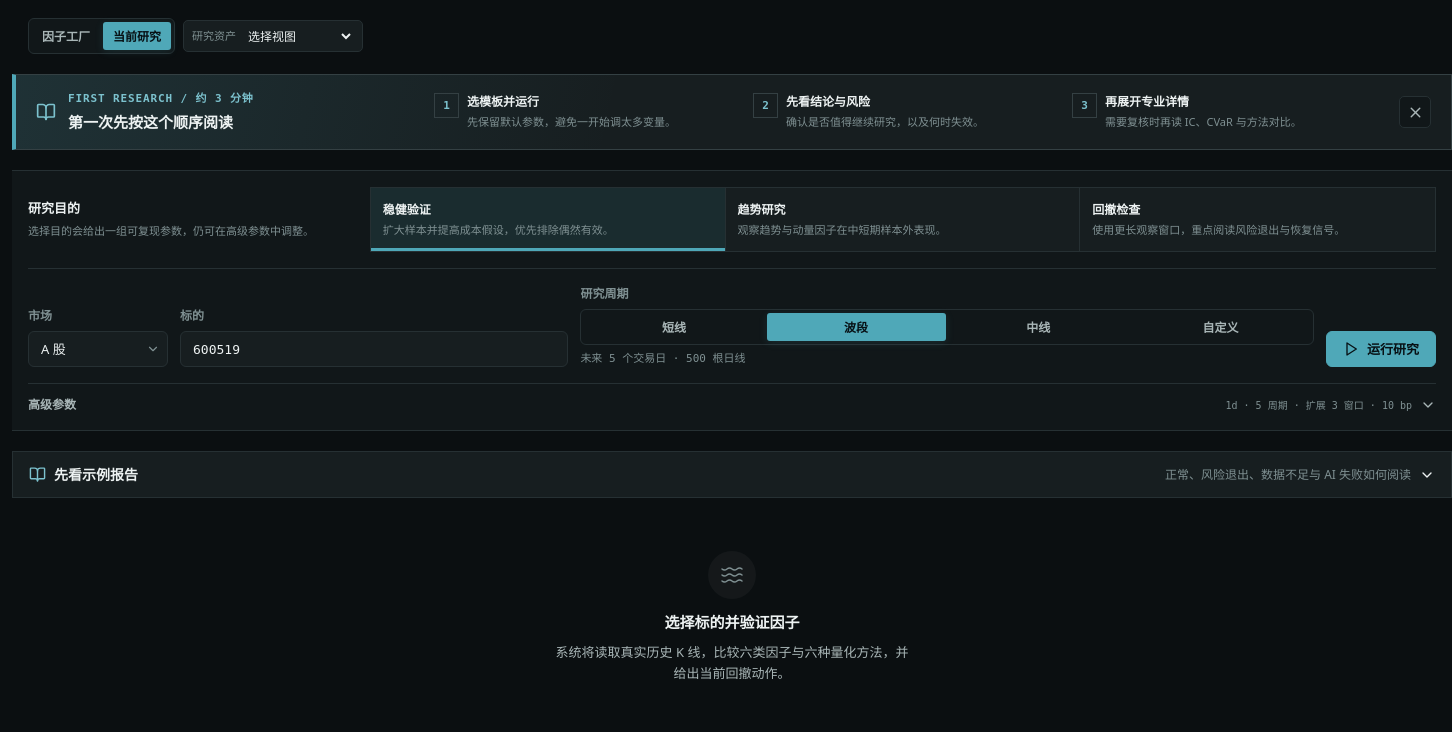
FactorResearchPage › runs a constrained AI review after statistical research
The image size is (1452, 732).
Click the button "运行研究" at coordinates (1381, 349), box [1326,331,1436,367]
(page scrolled)
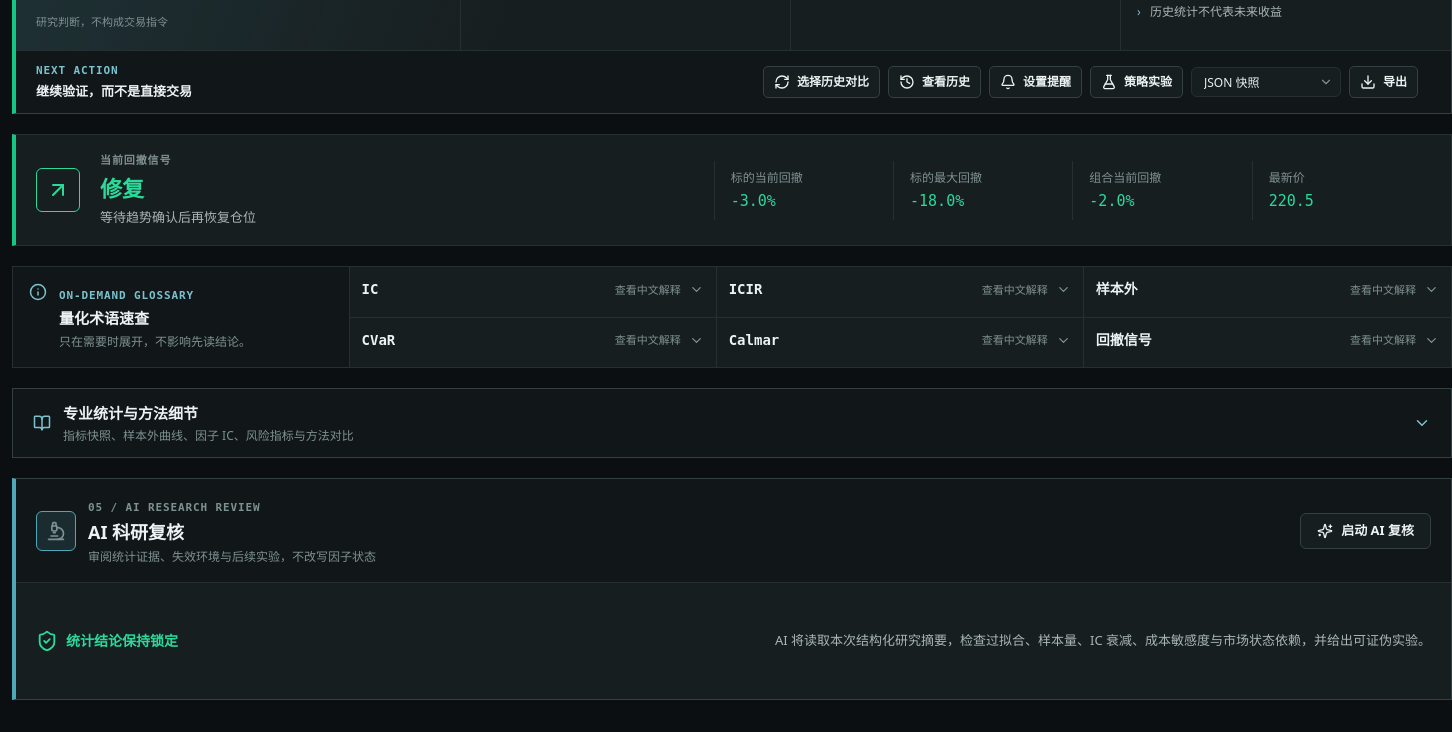
Expected: the heading "AI 科研复核" is shown, [88,520,184,544]
Click the button "启动 AI 复核" at coordinates (1366, 531), box [1300,513,1431,549]
(page scrolled)
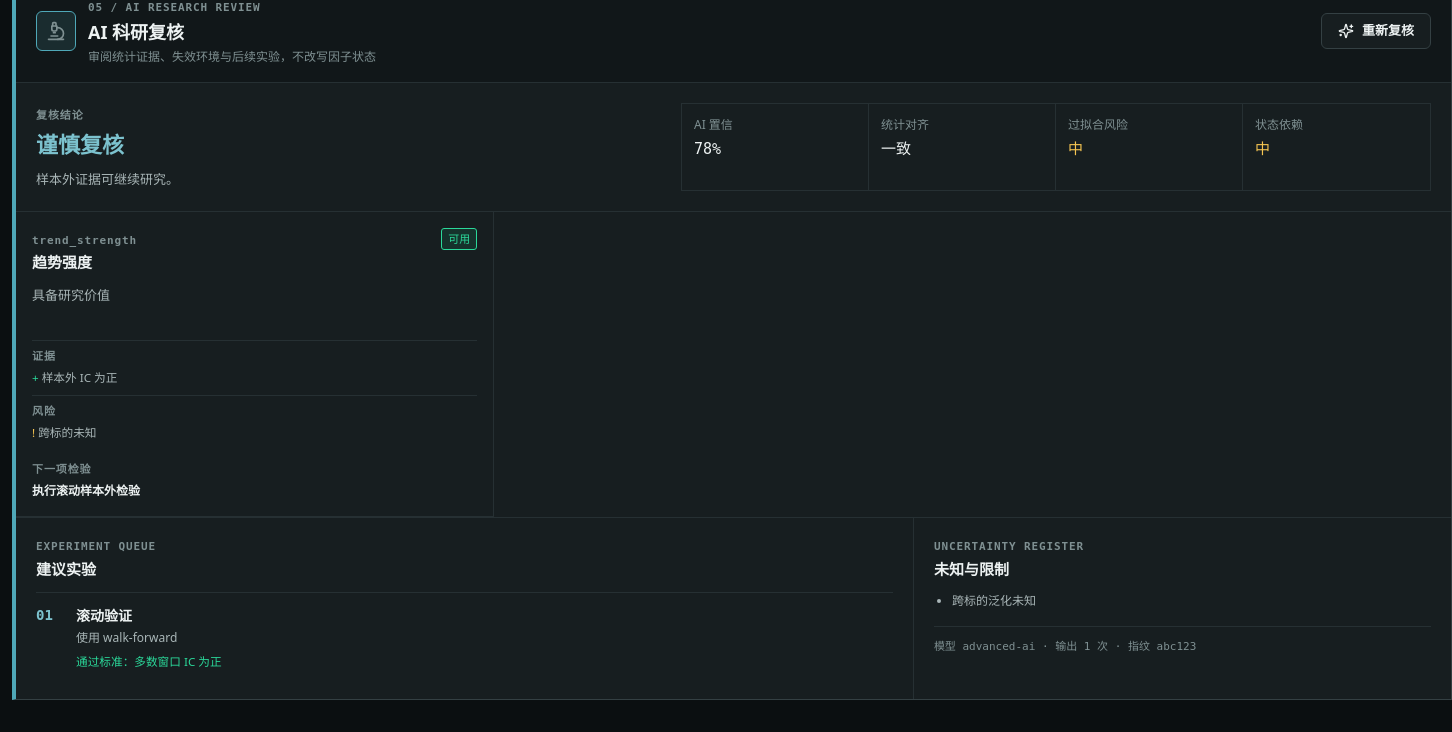
Expected: the text "谨慎复核" is shown, [36,129,124,159]
Expected: the text "执行滚动样本外检验" is shown, [32,482,140,499]
Expected: the text "模型 advanced-ai · 输出 1 次 · 指纹 abc123" is shown, [934,626,1431,656]
